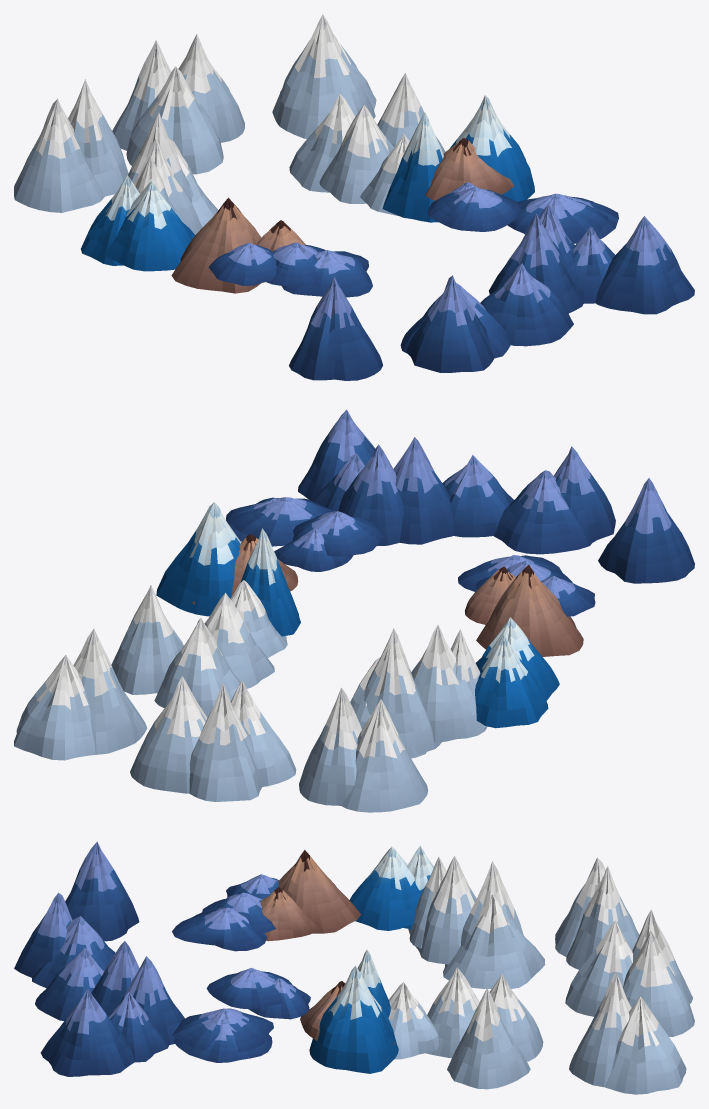
The model's file is ss_backdrop.fbx.
3 views of the same model, one above another, from view 1: azimuth 30°, elevation 25°; view 2: azimuth 150°, elevation 25°; view 3: azimuth 270°, elevation 25° (orthographic). The views are drawn at different scales.
Parts seen in each view (by area): view 1: BG_Peak_35, BG_Peak_32, BG_Peak_04, BG_Peak_05, BG_Peak_01, BG_Peak_34, BG_Peak_21, BG_Peak_03, BG_Peak_19, BG_Peak_27, BG_Peak_22, BG_Peak_20 (+23 smaller); view 2: BG_Peak_05, BG_Peak_32, BG_Peak_36, BG_Peak_20, BG_Peak_37, BG_Peak_38, BG_Peak_02, BG_Peak_19, BG_Peak_35, BG_Peak_26, BG_Peak_28, BG_Peak_23 (+24 smaller); view 3: BG_Peak_20, BG_Peak_29, BG_Peak_04, BG_Peak_36, BG_Peak_28, BG_Peak_05, BG_Peak_38, BG_Peak_21, BG_Peak_35, BG_Peak_26, BG_Peak_19, BG_Peak_34 (+25 smaller).
Part boxes in pixels (x1,y1,x2,y2): BG_Peak_35: [272, 14, 375, 138]; BG_Peak_32: [14, 98, 104, 212]; BG_Peak_04: [595, 216, 694, 314]; BG_Peak_05: [289, 276, 382, 380]; BG_Peak_01: [407, 275, 494, 372]; BG_Peak_34: [126, 66, 223, 174]; BG_Peak_21: [102, 181, 194, 271]; BG_Peak_03: [480, 263, 573, 346]; BG_Peak_19: [171, 197, 261, 293]; BG_Peak_27: [319, 105, 393, 203]; BG_Peak_22: [382, 112, 443, 222]; BG_Peak_20: [449, 95, 534, 201]; BG_Peak_05: [598, 478, 694, 583]; BG_Peak_32: [341, 699, 428, 812]; BG_Peak_36: [14, 655, 95, 760]; BG_Peak_20: [156, 502, 240, 616]; BG_Peak_37: [189, 683, 262, 801]; BG_Peak_38: [130, 676, 207, 793]; BG_Peak_02: [493, 470, 591, 554]; BG_Peak_19: [476, 564, 583, 656]; BG_Peak_35: [73, 628, 147, 754]; BG_Peak_26: [411, 625, 486, 742]; BG_Peak_28: [111, 585, 183, 694]; BG_Peak_23: [475, 634, 548, 728]; BG_Peak_20: [309, 966, 398, 1073]; BG_Peak_29: [443, 894, 545, 988]; BG_Peak_04: [40, 988, 134, 1076]; BG_Peak_36: [605, 996, 686, 1094]; BG_Peak_28: [447, 988, 530, 1089]; BG_Peak_05: [65, 841, 139, 941]; BG_Peak_38: [623, 930, 694, 1036]; BG_Peak_21: [349, 846, 420, 930]; BG_Peak_35: [569, 972, 631, 1087]; BG_Peak_26: [415, 856, 476, 964]; BG_Peak_19: [278, 850, 360, 933]; BG_Peak_34: [565, 920, 632, 1016].
Bounding box in the file's own units: 7050 × 1932 × 10731.
1 material, 1 textured.
